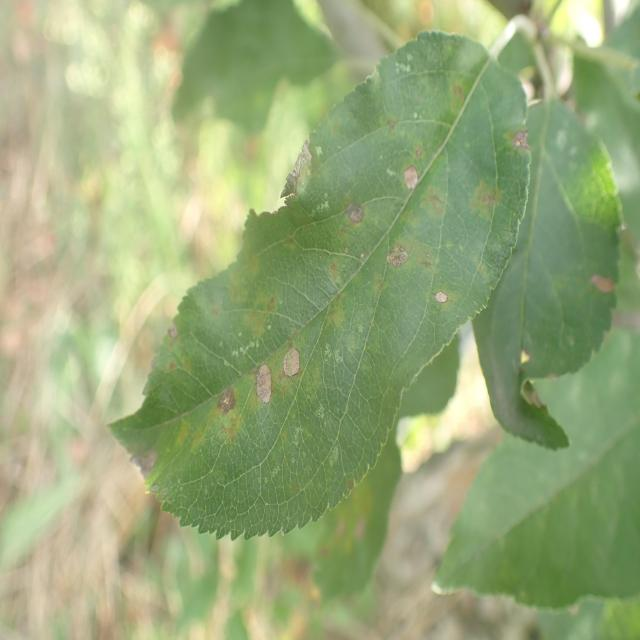frog-eye-leaf-spot: (105, 29, 536, 544), (497, 98, 625, 382)
